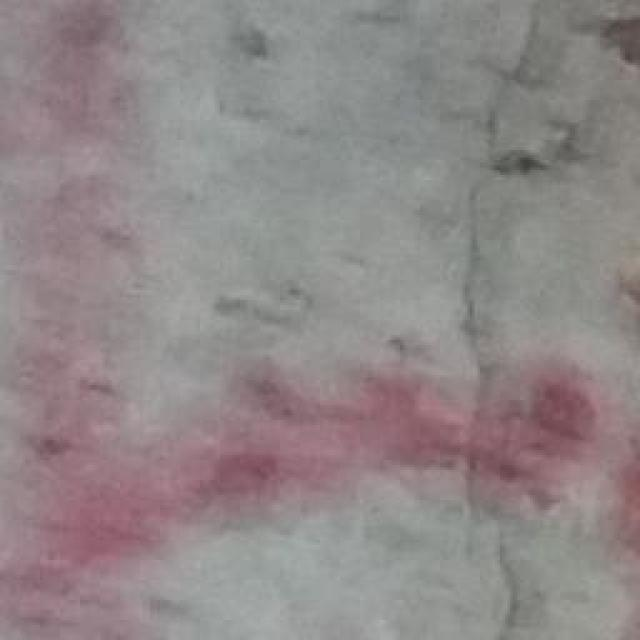Longitudinal: (453, 0, 582, 640)
